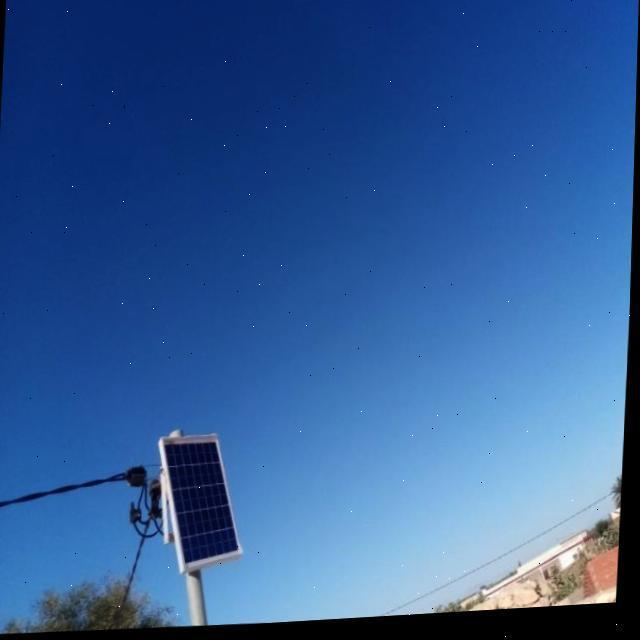Normal Solar Panel: (158, 434, 249, 576)
